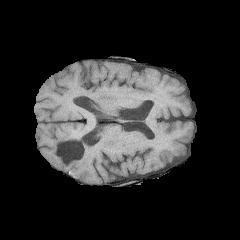glioma: (52, 139, 98, 178)
